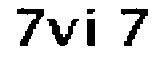7: (116, 4, 151, 50), (11, 6, 47, 49)
i: (82, 6, 107, 50)
v: (46, 16, 82, 49)
